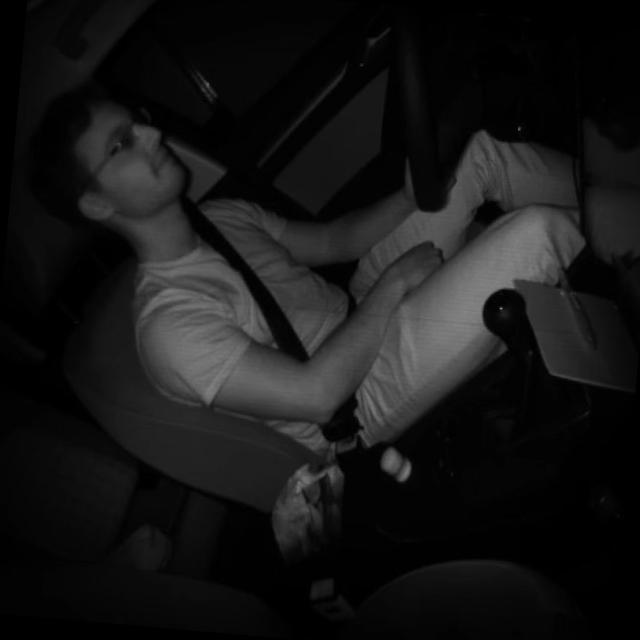pen: (548, 256, 608, 356)
